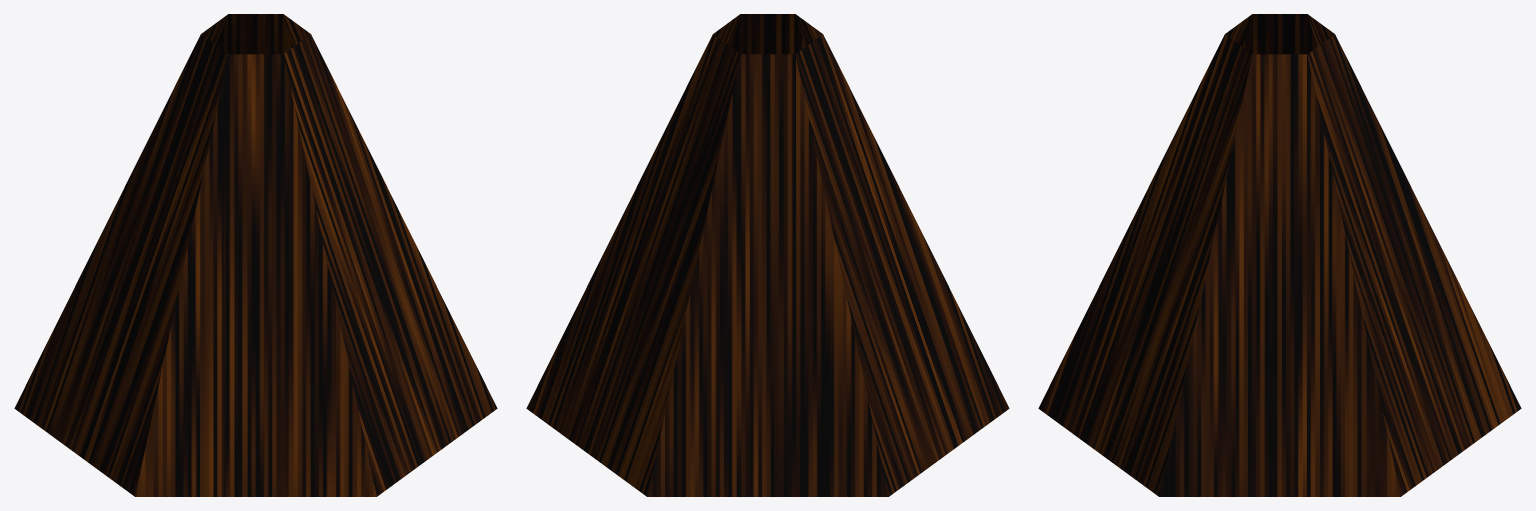
Rendered from M_CampfireV1.glb.
3 renders of one model, left to right at view 1: azimuth 30°, elevation 25°; view 2: azimuth 150°, elevation 25°; view 3: azimuth 270°, elevation 25°, orthographic.
Visible parts, largest first — view 1: Cylinder; view 2: Cylinder; view 3: Cylinder.
Part boxes in pixels (bbox=[...]): Cylinder: bbox=[14, 14, 497, 496]; Cylinder: bbox=[526, 14, 1009, 496]; Cylinder: bbox=[1038, 14, 1521, 496].
Bounding box in the file's own units: 0.479 × 0.4728 × 0.5531.
1 material, 1 textured.
